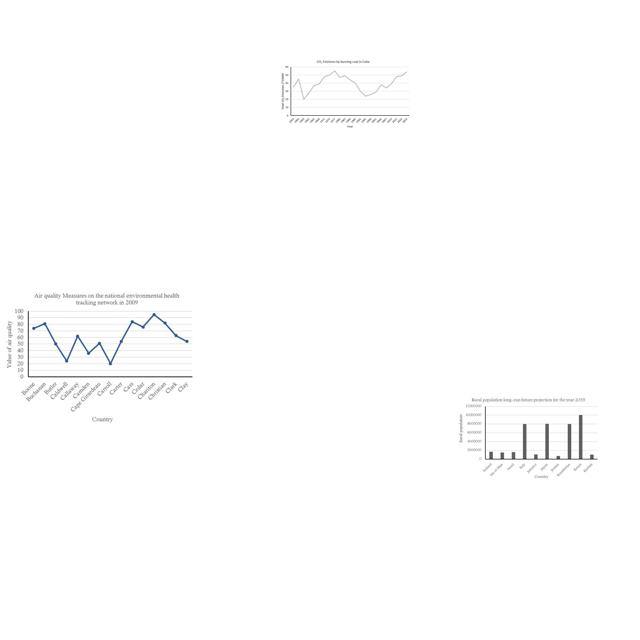Graph: (2, 289, 196, 426), (457, 396, 599, 480), (280, 59, 411, 129)
